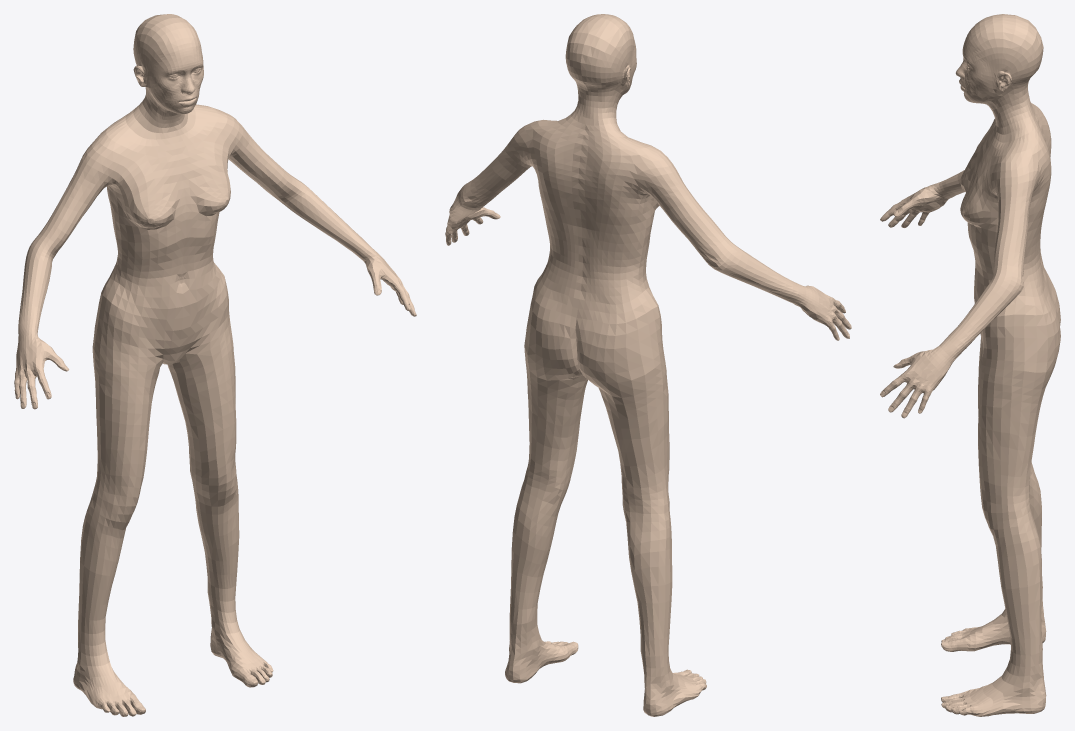
File: female-mature-lean-low.glb
The picture shows the model from 3 angles, left to right: view 1: azimuth 30°, elevation 25°; view 2: azimuth 150°, elevation 25°; view 3: azimuth 270°, elevation 25°; orthographic projection.
Parts seen in each view (by area): view 1: world; view 2: world; view 3: world.
Part boxes in pixels (box(x1,y1,x2,y2)): world: box(14, 14, 416, 716); world: box(445, 14, 851, 716); world: box(880, 14, 1060, 716).
Size of the model in its own units: 1.12 by 1.81 by 0.4487.
